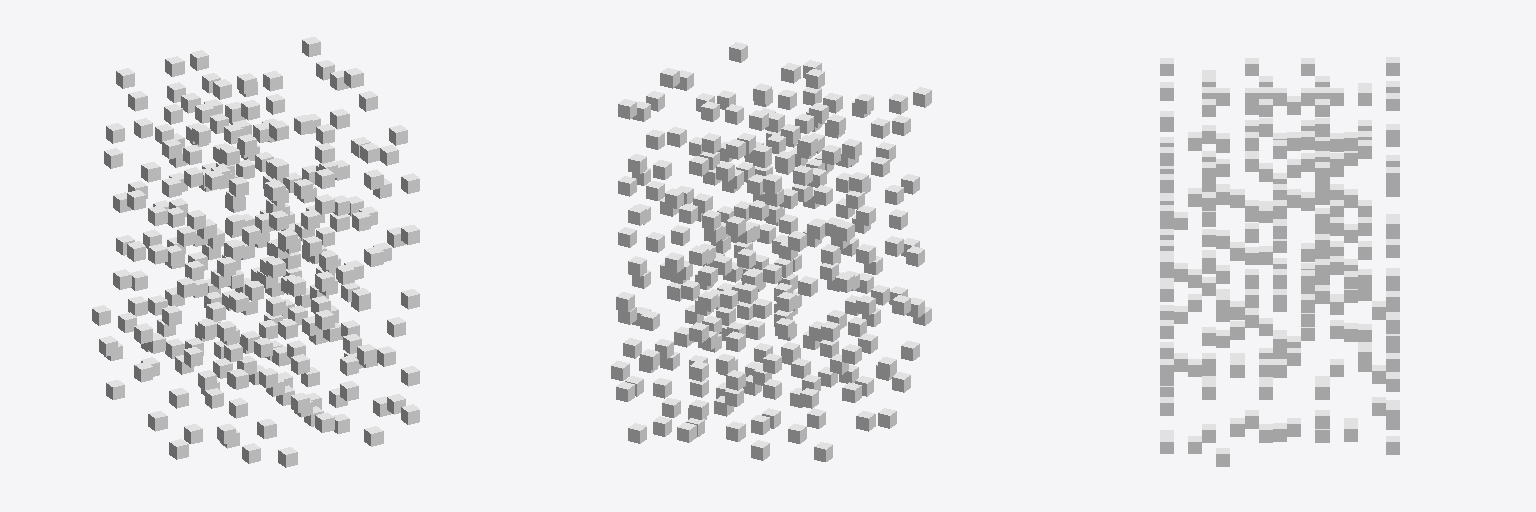
The model's file is fire-03.obj.
3 views of the same model, side by side, from view 1: azimuth 30°, elevation 25°; view 2: azimuth 150°, elevation 25°; view 3: azimuth 270°, elevation 25° (orthographic).
Bounding box in the file's own units: 17 × 25 × 17.